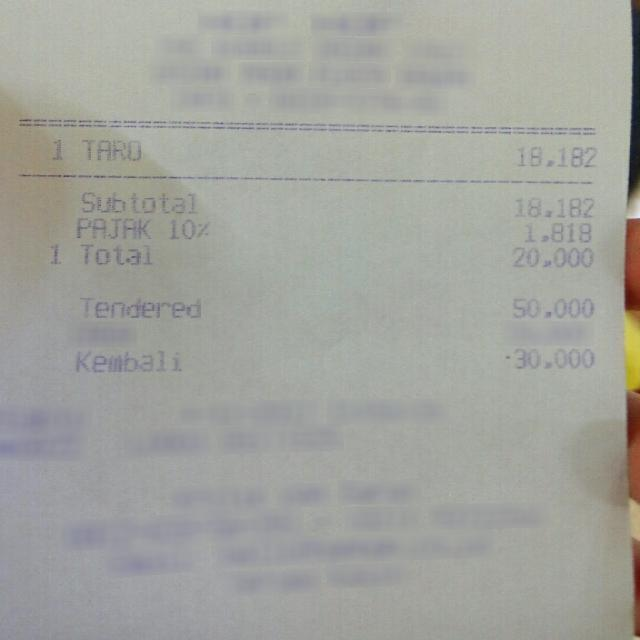kertas: (3, 1, 630, 640)
